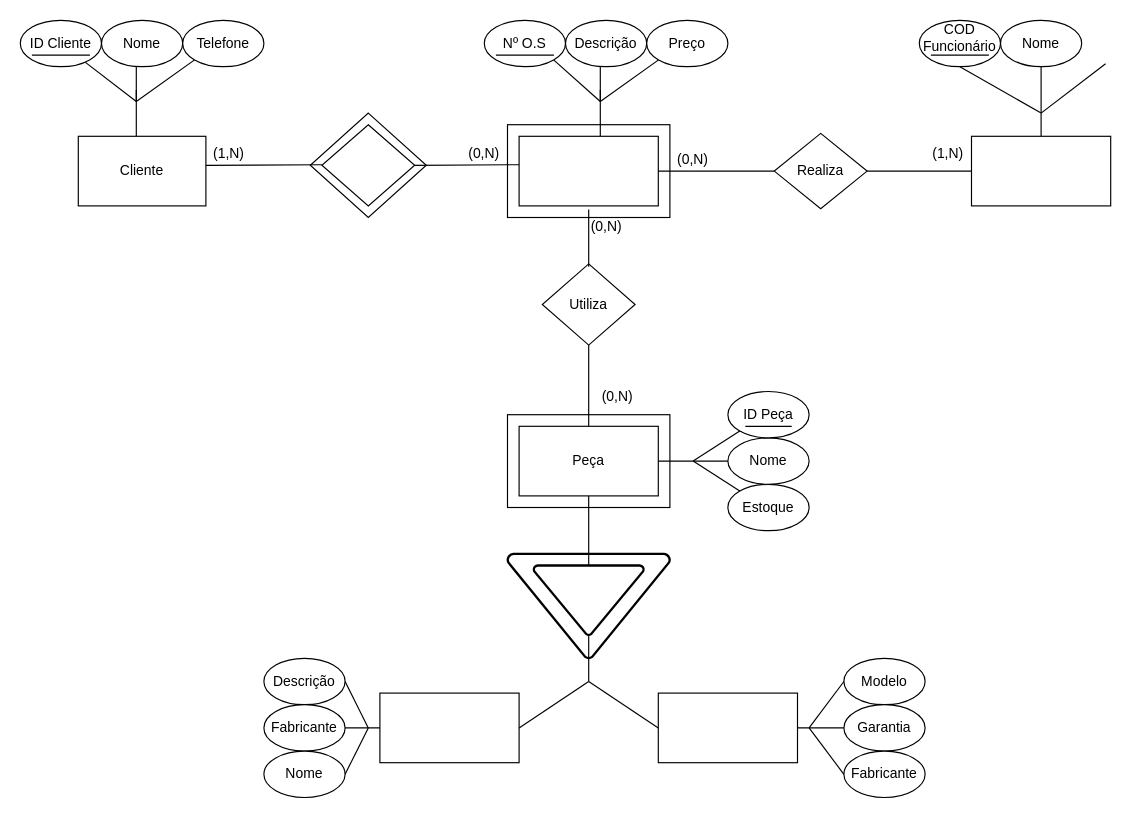
This 1131x827 diagram has some shape labels left out. The centre of each missing label's shape, as x and y in pixels:
Funcionário: the point at 1040,170
Peça nova: the point at 449,727
Peça recondicionada: the point at 727,727
Serviço: the point at 588,170
Solicitar: the point at 368,165
É uma: the point at 588,600
